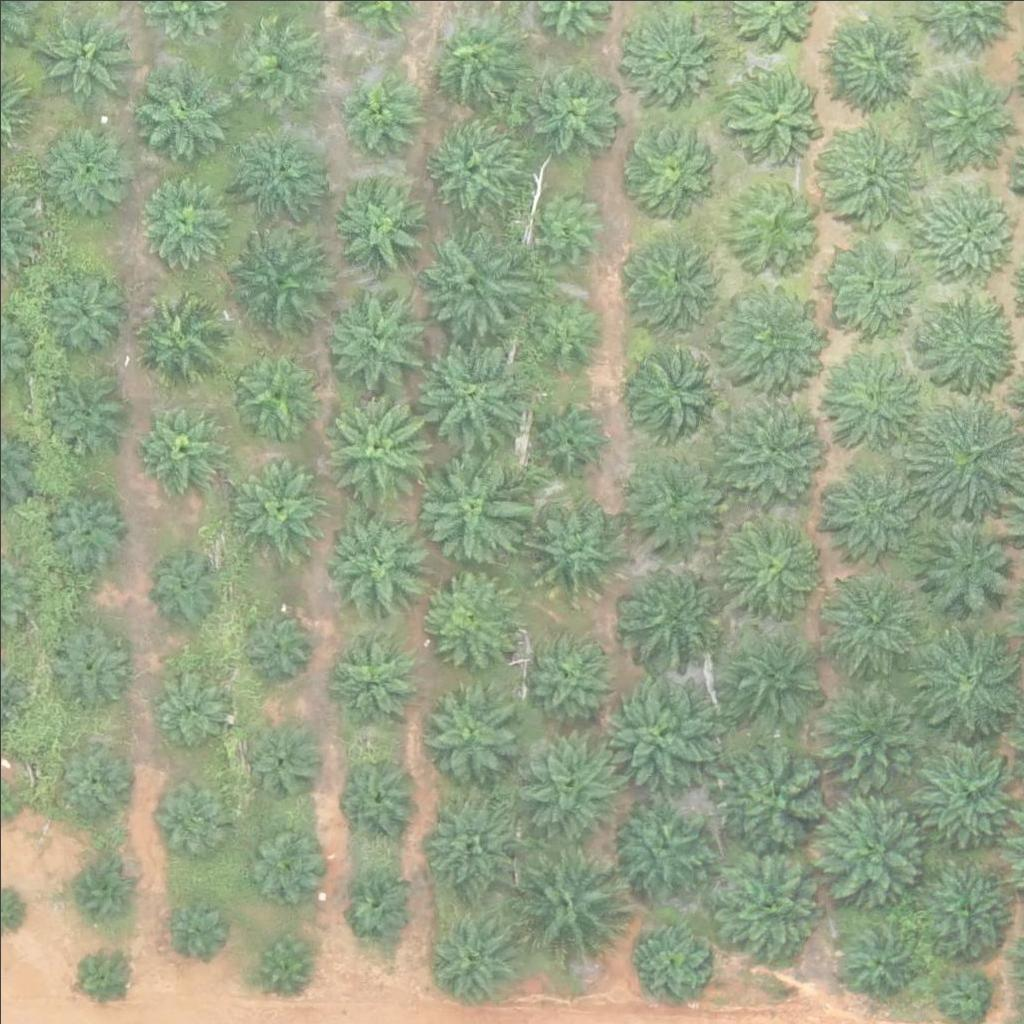Kelapa_Sawit: (702, 843, 827, 969), (714, 732, 839, 858), (709, 385, 834, 511), (594, 668, 719, 794), (503, 842, 628, 968), (507, 719, 632, 845), (405, 443, 530, 569), (405, 330, 530, 456), (313, 383, 438, 509), (909, 503, 1022, 616), (810, 449, 923, 562), (415, 226, 528, 339), (718, 274, 831, 387), (822, 341, 935, 454), (225, 222, 337, 336), (817, 788, 929, 901), (816, 676, 928, 789), (918, 855, 1018, 956), (719, 621, 819, 722), (718, 520, 818, 621), (611, 565, 711, 666), (623, 460, 723, 561), (520, 497, 620, 598), (232, 12, 332, 113), (329, 175, 429, 276), (423, 117, 523, 218), (427, 1, 527, 102), (522, 58, 622, 159), (627, 343, 727, 444), (625, 231, 725, 332), (617, 119, 717, 220), (622, 14, 722, 115), (722, 174, 822, 275), (820, 233, 920, 334), (822, 122, 922, 223), (919, 289, 1019, 390), (613, 797, 713, 897), (423, 905, 523, 1005), (419, 789, 519, 889), (419, 682, 519, 782), (417, 565, 517, 665), (326, 509, 426, 609), (232, 458, 332, 558), (39, 118, 139, 218), (129, 282, 229, 382), (135, 167, 235, 267), (131, 58, 231, 158), (324, 290, 424, 390), (827, 7, 927, 107), (917, 181, 1017, 281), (918, 70, 1018, 170), (724, 60, 823, 161), (44, 623, 132, 711), (828, 578, 916, 666), (329, 631, 417, 719), (40, 483, 128, 571), (38, 7, 126, 95), (231, 346, 319, 434), (237, 129, 325, 217), (335, 752, 422, 840), (524, 627, 611, 715), (136, 402, 223, 490), (41, 364, 128, 452), (39, 266, 126, 354), (153, 673, 228, 749), (243, 725, 318, 801), (238, 606, 313, 682), (149, 550, 224, 626), (631, 924, 706, 1000), (343, 864, 418, 940), (245, 823, 320, 898), (152, 781, 227, 856), (54, 737, 129, 812), (526, 190, 601, 265), (527, 294, 602, 369), (840, 922, 915, 997), (534, 397, 609, 472), (345, 71, 420, 146), (72, 945, 135, 1008), (71, 856, 134, 919), (253, 929, 315, 992), (163, 896, 225, 959), (940, 968, 990, 1018)
